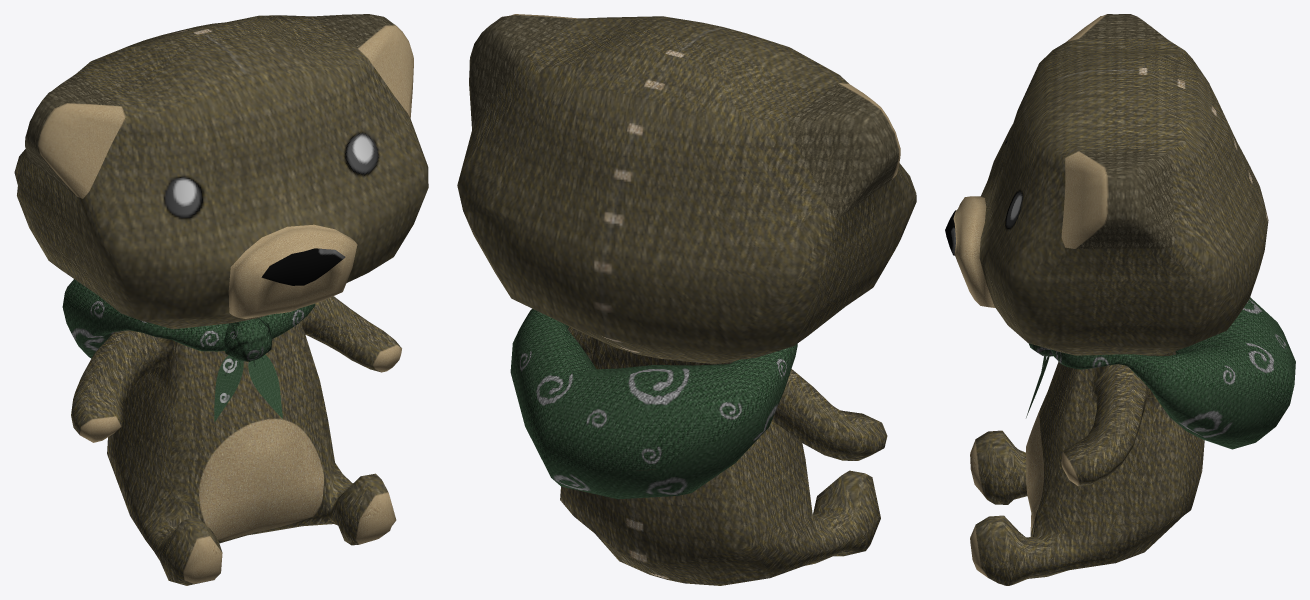
File: Bear-12''-15cm.fbx
The picture shows the model from 3 angles, left to right: view 1: azimuth 30°, elevation 25°; view 2: azimuth 150°, elevation 25°; view 3: azimuth 270°, elevation 25°; orthographic projection. The views are drawn at different scales.
Visible parts, largest first — view 1: Lowres; view 2: Lowres; view 3: Lowres.
Boxes of the visible parts, x1,y1,x2,y2 form: Lowres: [14, 14, 428, 585]; Lowres: [457, 14, 916, 585]; Lowres: [945, 14, 1295, 585].
Bounding box in the file's own units: 12.04 × 10 × 15.
1 material, 1 textured.
